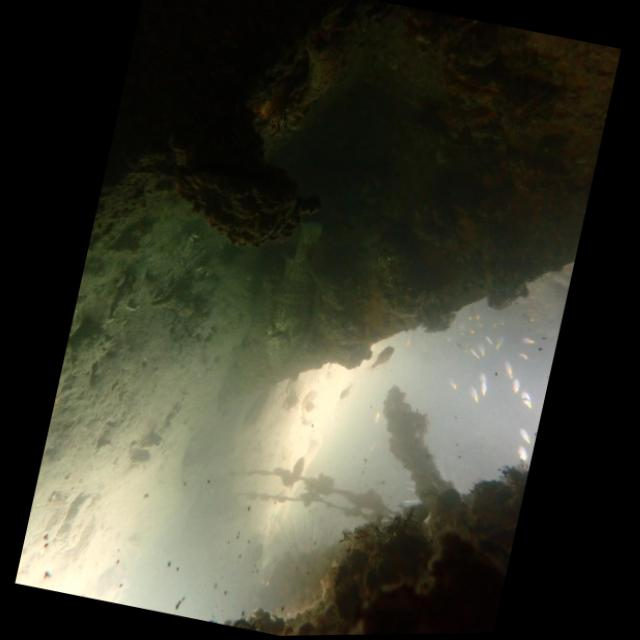Groupers: (253, 213, 332, 380)
